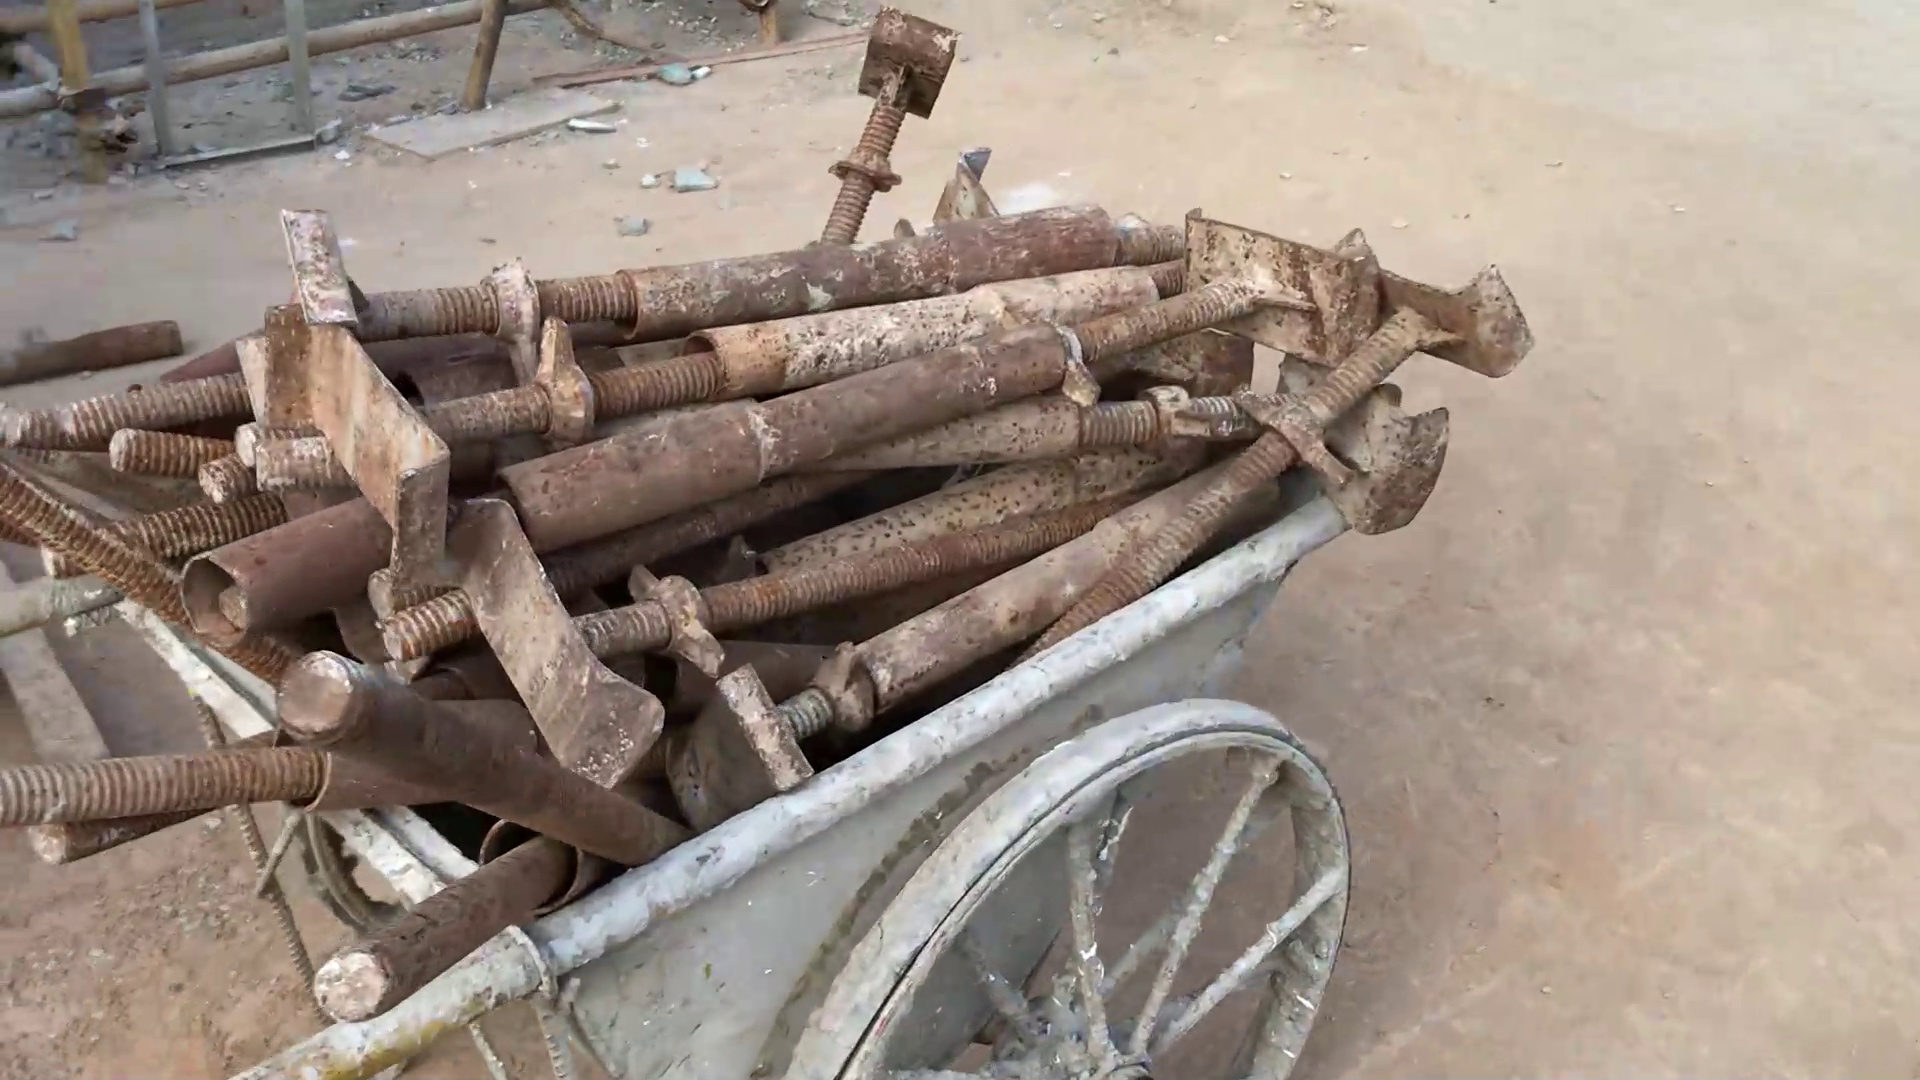handcart: (16, 483, 1412, 1080)
